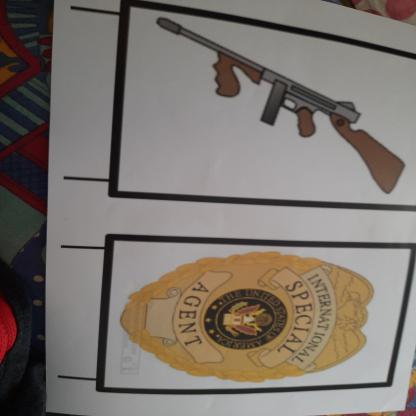Bootlegger: (137, 5, 416, 199)
G-man: (110, 242, 391, 388)
